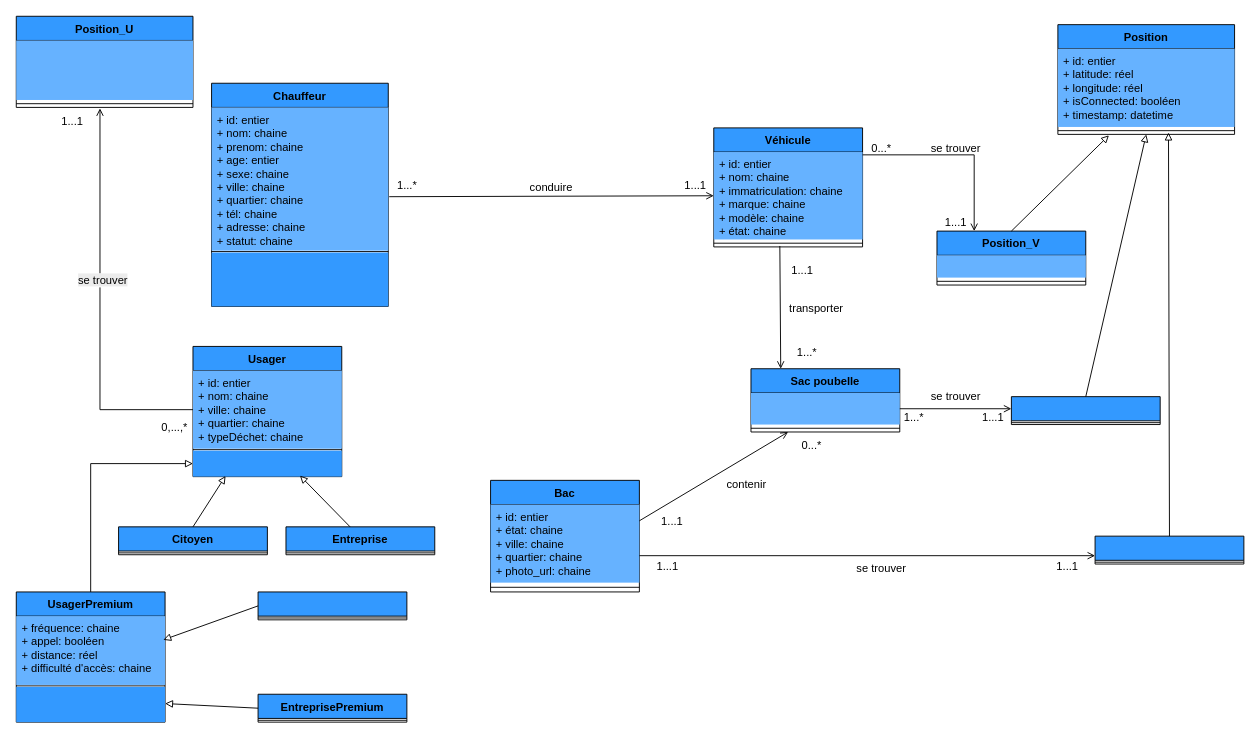
The diagram is 1260 pixels wide and 741 high, and some of its shapes have lost their labels. Each missing label, with the centre of its shape:
"+ confirmationChargement( ) + confirmationDéchargement( ) + signalerProblème( )" belongs at pixel 299 279.
"+ demanderCollecte( ) + acheterProduit( )" belongs at pixel 90 704.
"+ id: entier + latitude: réel + longitude: réel + timestamp: datetime" belongs at pixel 104 70.
"+ id: entier + état: chaine" belongs at pixel 825 408.
"+ signalerProblème( )" belongs at pixel 267 463.
"CitoyenPremium" belongs at pixel 332 605.
"Position_B" belongs at pixel 1169 549.
"Position_S" belongs at pixel 1085 410.
"vitesse(km/h): réel" belongs at pixel 1011 266.
